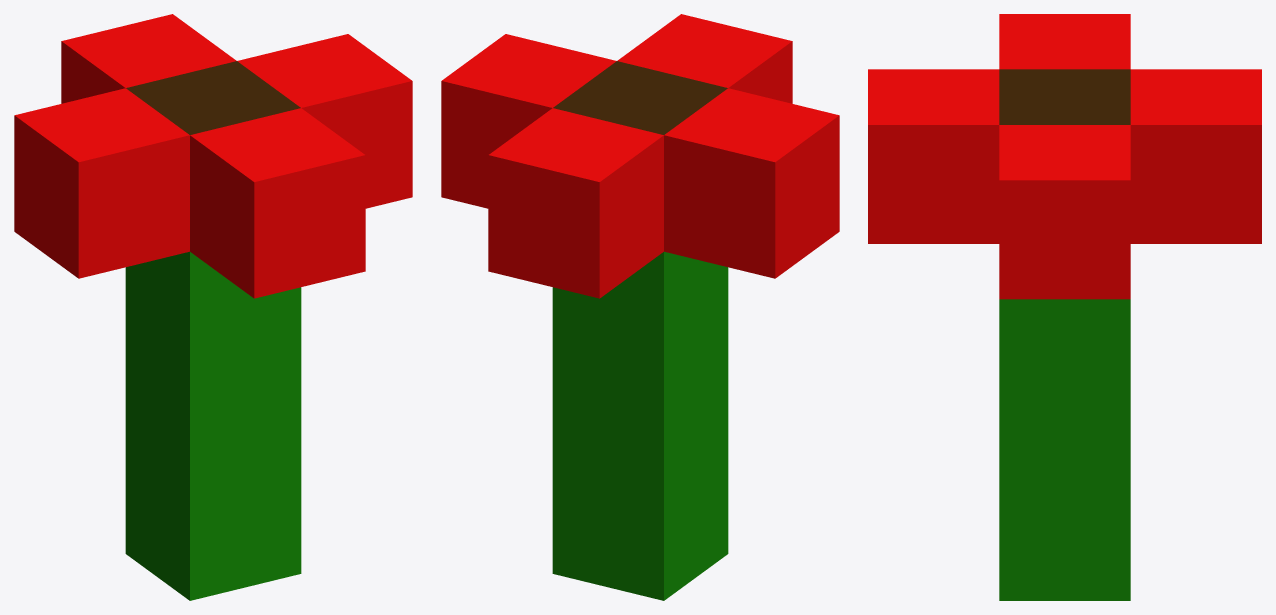
File: (1) Red Flower (Stage 5).obj
3 renders of one model, left to right at view 1: azimuth 30°, elevation 25°; view 2: azimuth 150°, elevation 25°; view 3: azimuth 270°, elevation 25°, orthographic. The views are drawn at different scales.
Bounding box in the file's own units: 0.3 × 0.4 × 0.3.
1 material, 1 textured.
